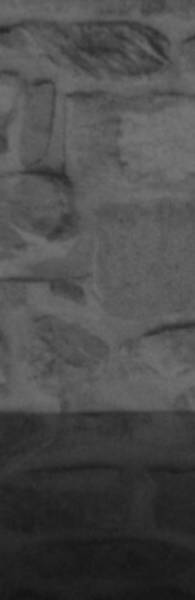water: (0, 412, 195, 600)
